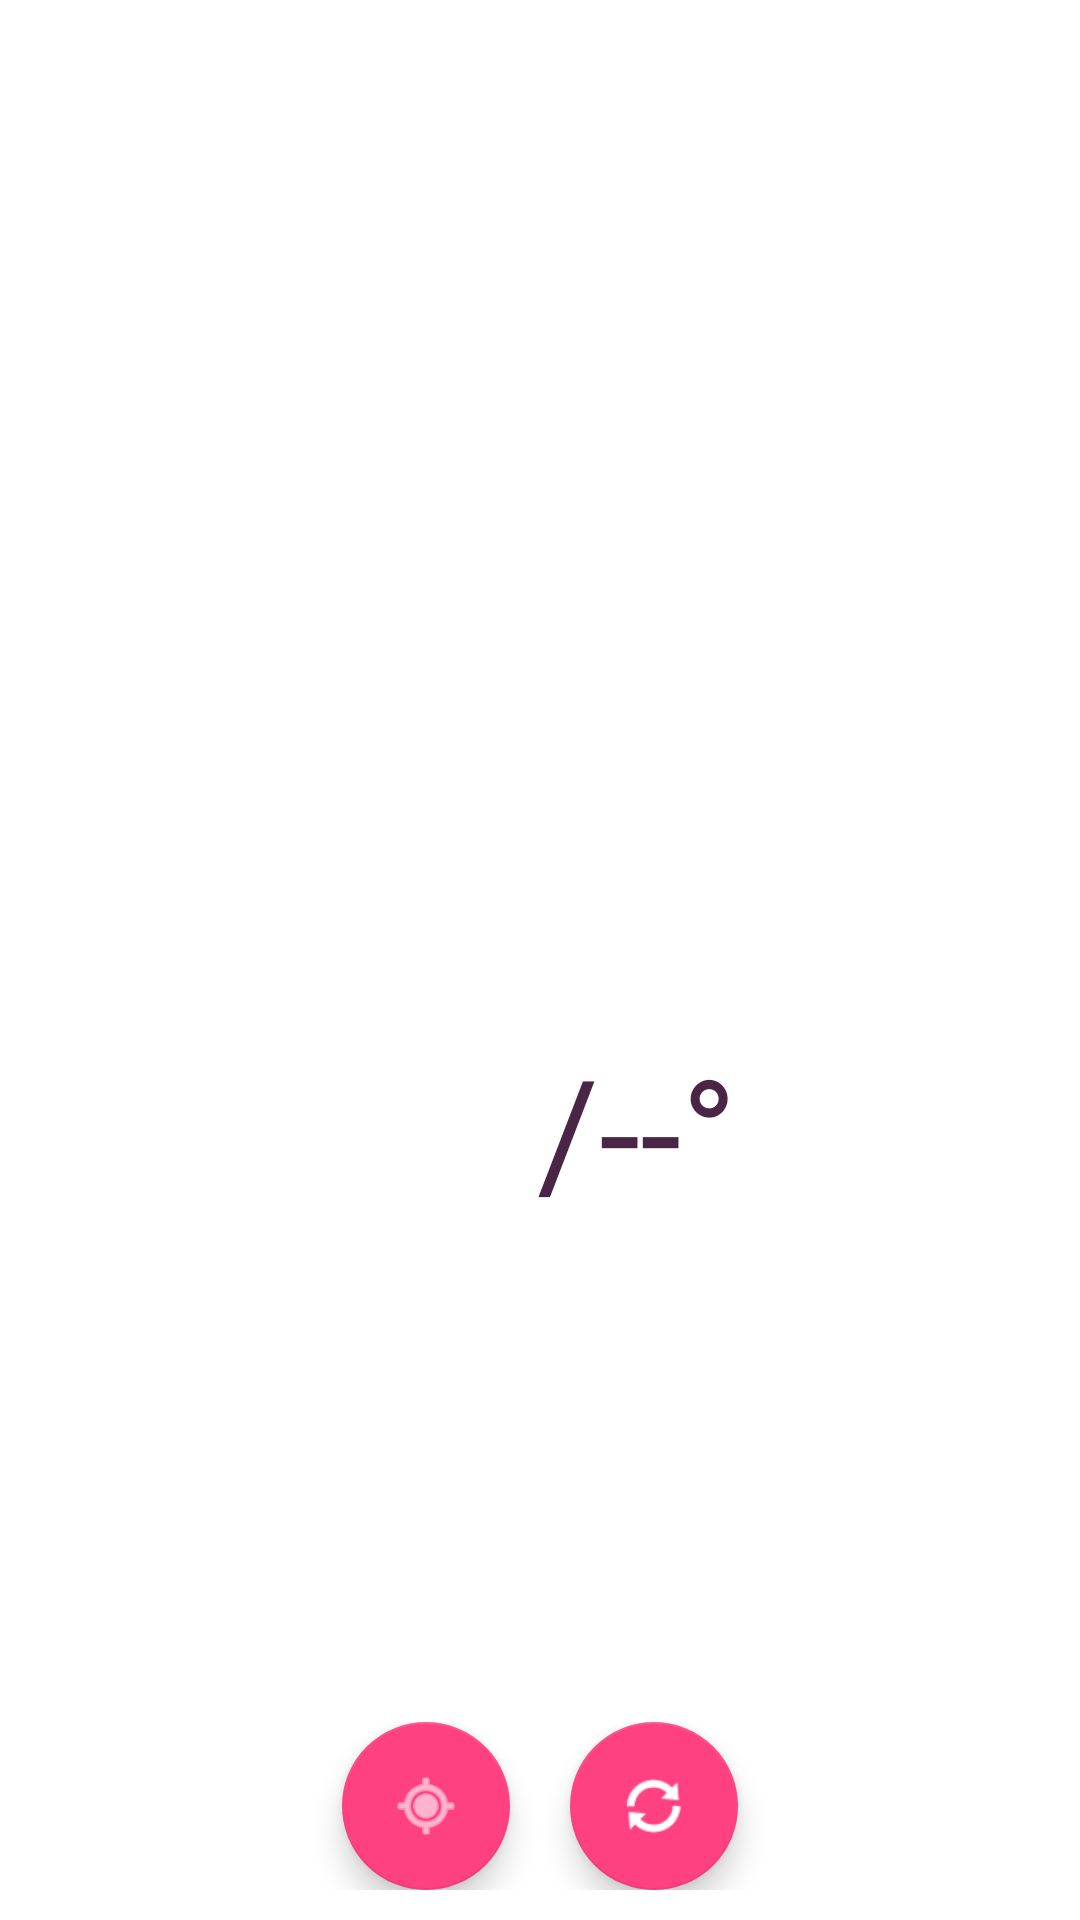

Screen size 1080 x 1920. Icon name, then its box in pixels as bbox(x1, y1, x2, y2):
mylocation: bbox(342, 1722, 510, 1890)
popup sync: bbox(570, 1722, 738, 1890)
